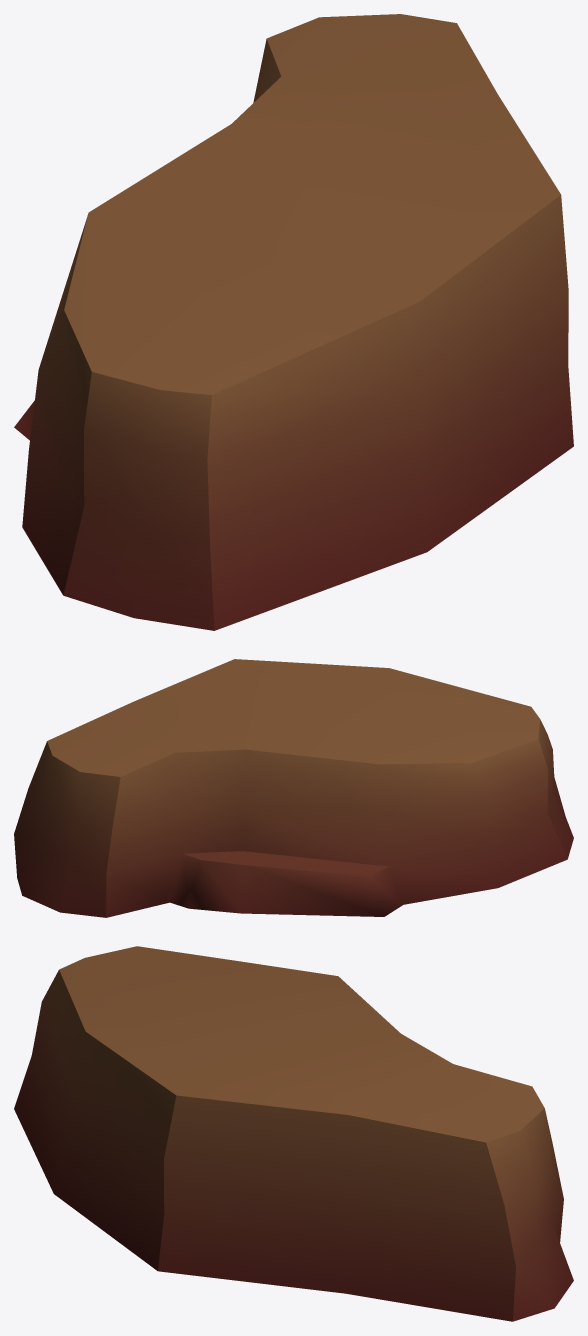
The model's file is Mountain_medium.014.fbx.
3 renders of one model, top to bottom at view 1: azimuth 30°, elevation 25°; view 2: azimuth 150°, elevation 25°; view 3: azimuth 270°, elevation 25°, orthographic. The views are drawn at different scales.
Parts seen in each view (by area): view 1: Mountain_medium.014; view 2: Mountain_medium.014; view 3: Mountain_medium.014.
Part boxes in pixels (<box>): Mountain_medium.014: <box>14,14,573,630</box>; Mountain_medium.014: <box>14,659,573,917</box>; Mountain_medium.014: <box>14,946,573,1321</box>.
Size of the model in its own units: 43.68 by 14.85 by 42.85.
